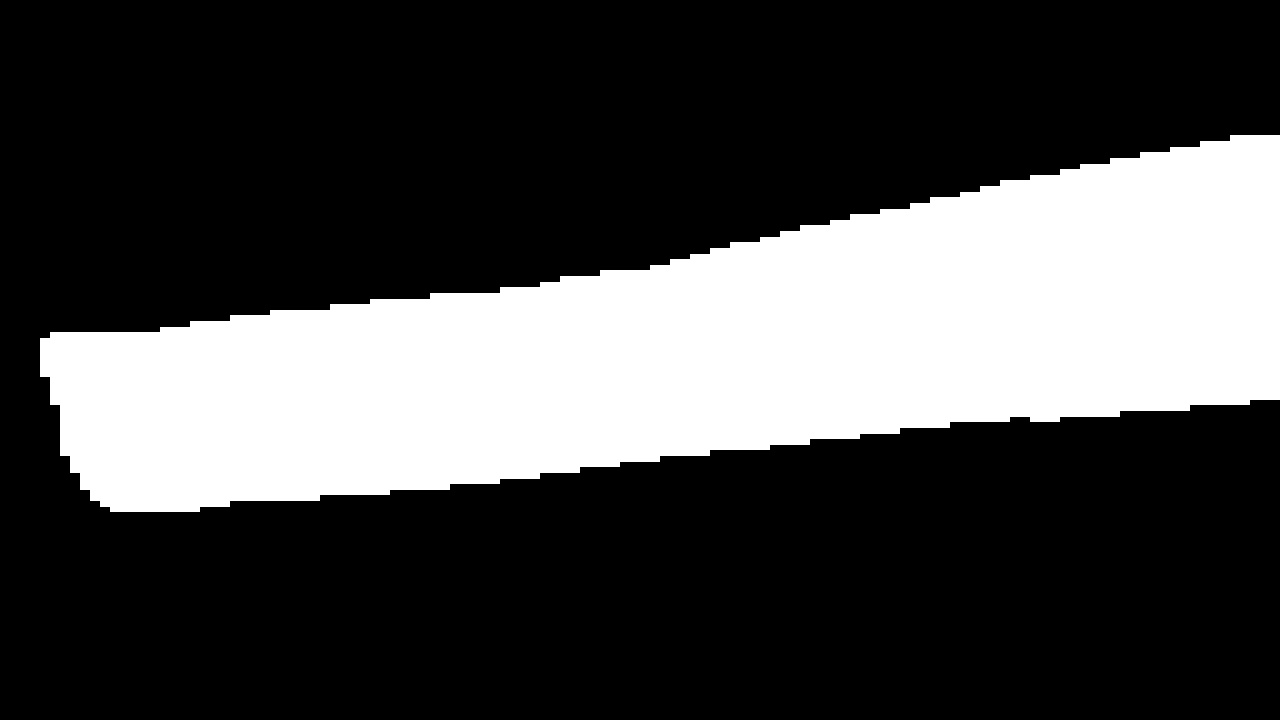Turbine: (8, 119, 1266, 534)
